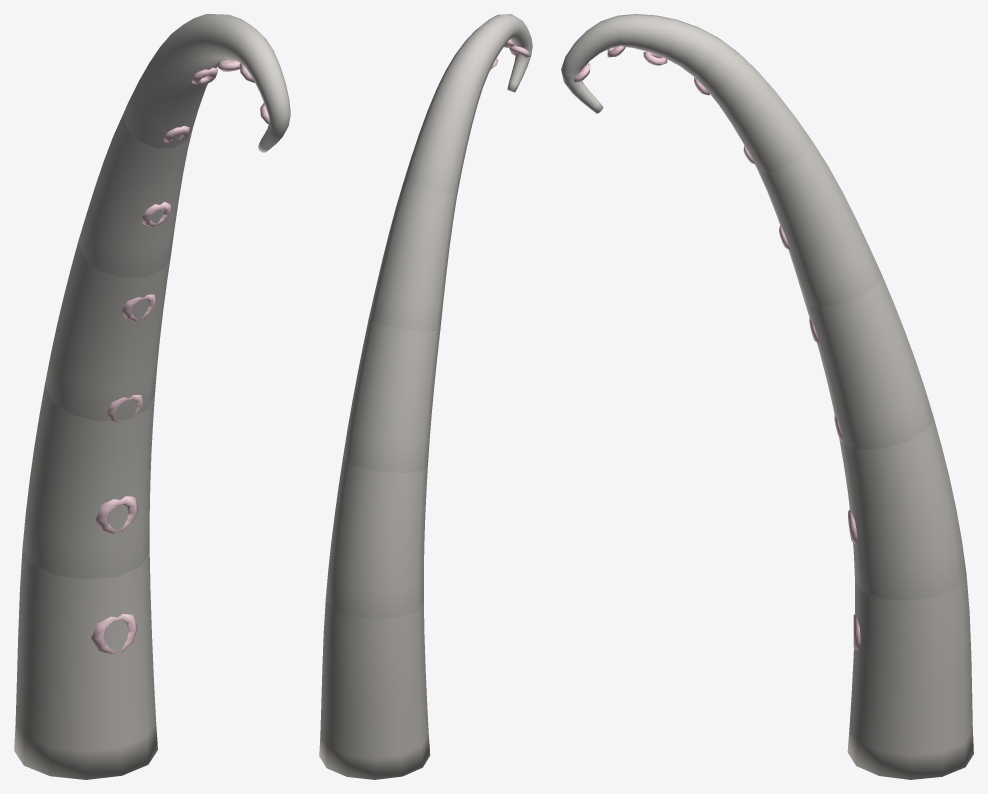
File: part_tentacle_long.glb
3 renders of one model, left to right at view 1: azimuth 30°, elevation 25°; view 2: azimuth 150°, elevation 25°; view 3: azimuth 270°, elevation 25°, orthographic. The views are drawn at different scales.
Parts seen in each view (by area): view 1: seg_0.004_painted_mesh, seg_1.004_painted_mesh, seg_2.004_painted_mesh, seg_4_painted_mesh, seg_3.004_painted_mesh; view 2: seg_0.004_painted_mesh, seg_1.004_painted_mesh, seg_2.004_painted_mesh, seg_4_painted_mesh, seg_3.004_painted_mesh; view 3: seg_0.004_painted_mesh, seg_1.004_painted_mesh, seg_4_painted_mesh, seg_2.004_painted_mesh, seg_3.004_painted_mesh.
Part boxes in pixels (x1,y1,x2,y2): seg_0.004_painted_mesh: (14,548,157,779); seg_1.004_painted_mesh: (22,385,154,579); seg_2.004_painted_mesh: (45,241,170,422); seg_4_painted_mesh: (123,14,290,152); seg_3.004_painted_mesh: (78,114,192,277); seg_0.004_painted_mesh: (319,600,430,779); seg_1.004_painted_mesh: (325,458,427,619); seg_2.004_painted_mesh: (343,318,440,472); seg_4_painted_mesh: (403,14,532,195); seg_3.004_painted_mesh: (369,182,456,331); seg_0.004_painted_mesh: (847,574,973,779); seg_1.004_painted_mesh: (839,418,966,600); seg_4_painted_mesh: (561,14,811,172); seg_2.004_painted_mesh: (804,275,933,449); seg_3.004_painted_mesh: (757,141,881,307).
Bounding box in the file's own units: 0.26 × 1.68 × 0.8498.
